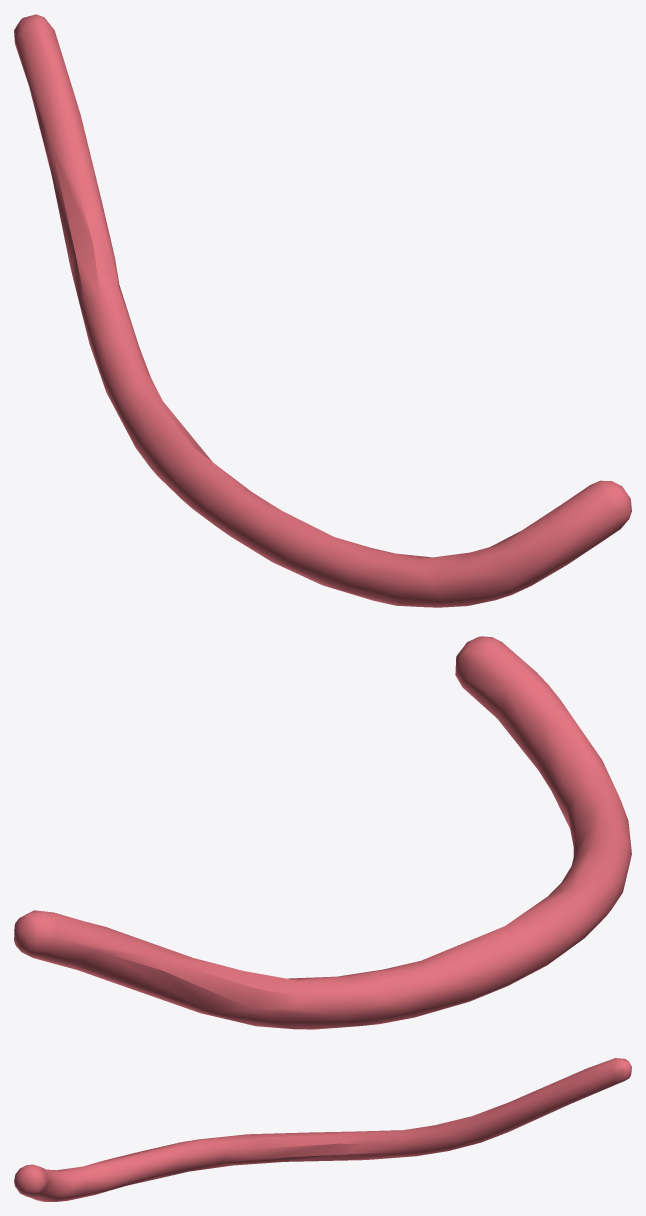
File: fma50641_fj1714.glb
3 renders of one model, top to bottom at view 1: azimuth 30°, elevation 25°; view 2: azimuth 150°, elevation 25°; view 3: azimuth 270°, elevation 25°, orthographic. The views are drawn at different scales.
Visible parts, largest first — view 1: FMA50641_FJ1714; view 2: FMA50641_FJ1714; view 3: FMA50641_FJ1714.
Part boxes in pixels (left/top/right/bottom): FMA50641_FJ1714: left=14, top=14, right=631, bottom=607; FMA50641_FJ1714: left=14, top=636, right=631, bottom=1029; FMA50641_FJ1714: left=14, top=1058, right=631, bottom=1201.
Bounding box in the file's own units: 0.0112 × 0.0101 × 0.0369.
